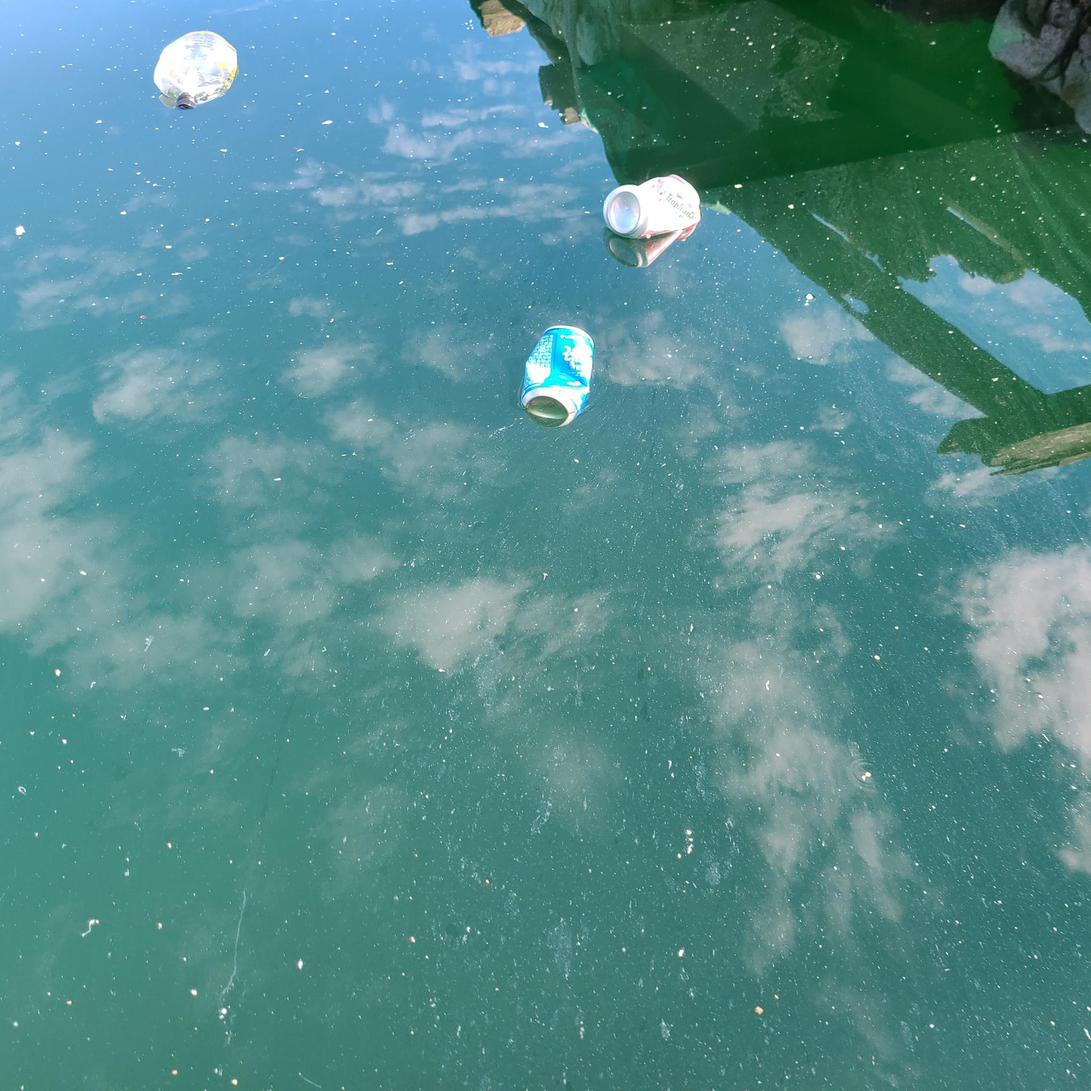sampah_terapung: (521, 325, 595, 429), (153, 31, 238, 110), (603, 174, 701, 239)
